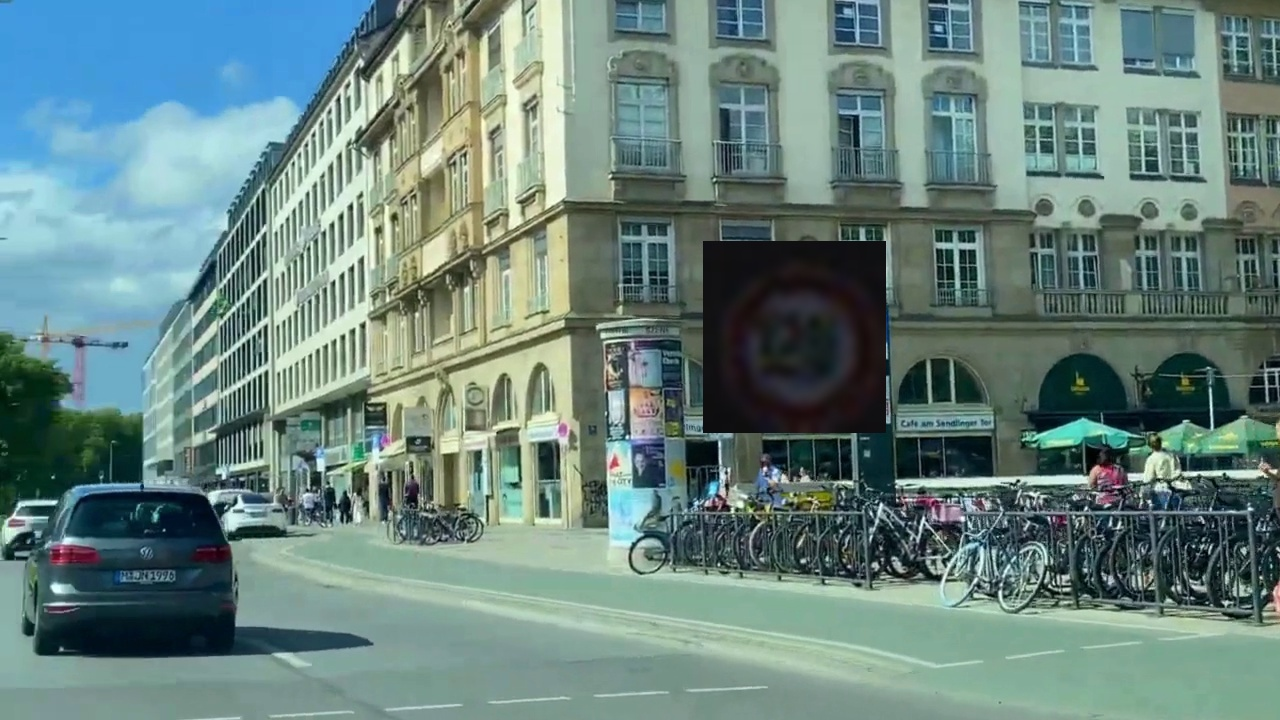Speed 120: (703, 241, 886, 433)
